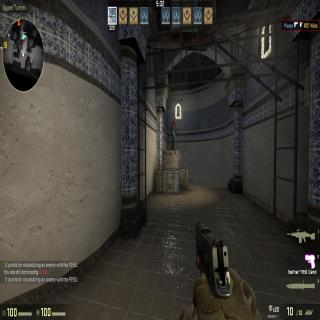T-Body: (170, 117, 177, 150)
T-Head: (174, 116, 176, 122)
